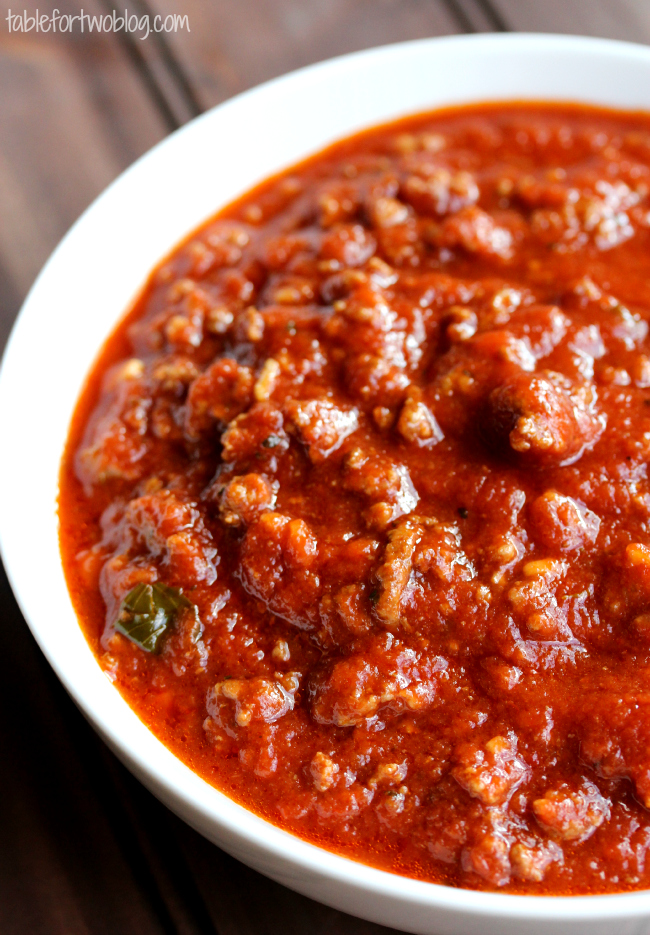meatballs: (197, 243, 618, 800)
